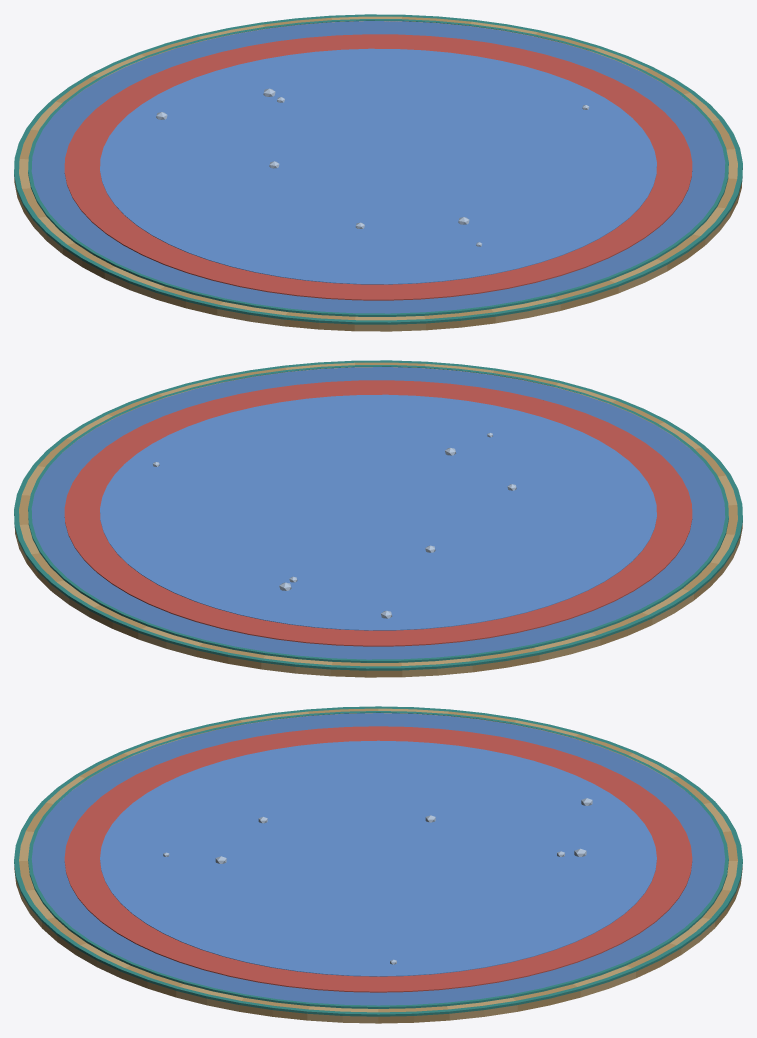
The model's file is goo_jar_foot@fairground.fbx.
3 renders of one model, top to bottom at view 1: azimuth 30°, elevation 25°; view 2: azimuth 150°, elevation 25°; view 3: azimuth 270°, elevation 25°, orthographic.
Visible parts, largest first — view 1: goo_jar_foot; view 2: goo_jar_foot; view 3: goo_jar_foot.
Boxes of the visible parts, x1=… form: goo_jar_foot: x1=14, y1=14, x2=742, y2=331; goo_jar_foot: x1=14, y1=360, x2=742, y2=677; goo_jar_foot: x1=14, y1=706, x2=742, y2=1023.
Size of the model in its own units: 80.1 by 2.08 by 80.1.
